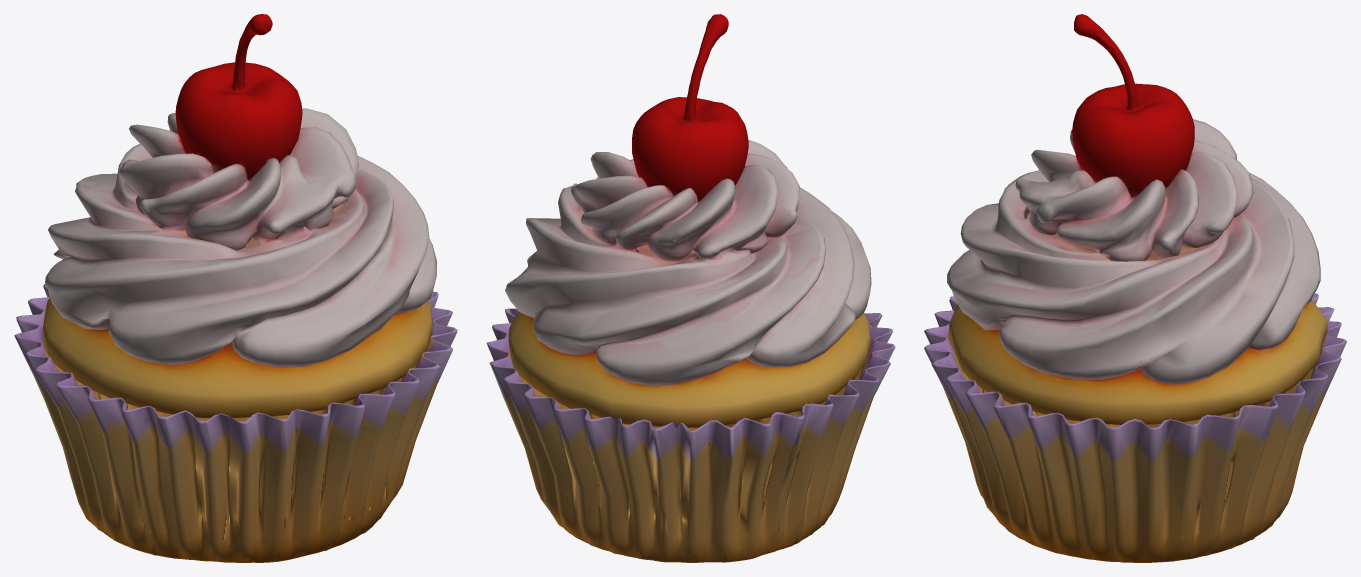
Rendered from r33-cupcake.glb.
The picture shows the model from 3 angles, left to right: view 1: azimuth 30°, elevation 25°; view 2: azimuth 150°, elevation 25°; view 3: azimuth 270°, elevation 25°; orthographic projection. The views are drawn at different scales.
Parts seen in each view (by area): view 1: tripo_node_58e817d2-a4c2-4600-b81b-ceff14191df1; view 2: tripo_node_58e817d2-a4c2-4600-b81b-ceff14191df1; view 3: tripo_node_58e817d2-a4c2-4600-b81b-ceff14191df1.
Boxes of the visible parts, x1,y1,x2,y2 form: tripo_node_58e817d2-a4c2-4600-b81b-ceff14191df1: (14,14,457,562); tripo_node_58e817d2-a4c2-4600-b81b-ceff14191df1: (486,14,895,562); tripo_node_58e817d2-a4c2-4600-b81b-ceff14191df1: (924,14,1346,562).
Size of the model in its own units: 0.7871 by 0.998 by 0.7871.
1 material, 1 textured.
